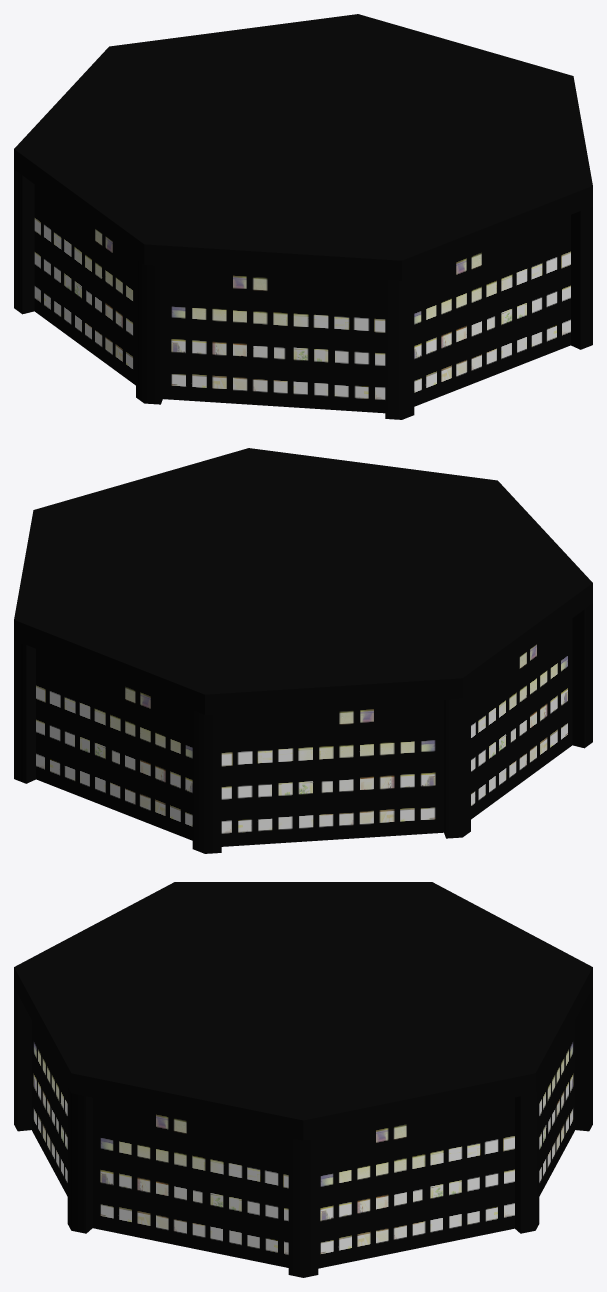
The model's file is building32.FBX.
3 views of the same model, one above another, from view 1: azimuth 30°, elevation 25°; view 2: azimuth 150°, elevation 25°; view 3: azimuth 270°, elevation 25° (orthographic).
Visible parts, largest first — view 1: Cylinder002; view 2: Cylinder002; view 3: Cylinder002.
Boxes of the visible parts, left/top/right/bottom form: Cylinder002: left=14, top=14, right=592, bottom=419; Cylinder002: left=14, top=448, right=592, bottom=853; Cylinder002: left=14, top=882, right=592, bottom=1277.
Size of the model in its own units: 135 by 41.59 by 139.
